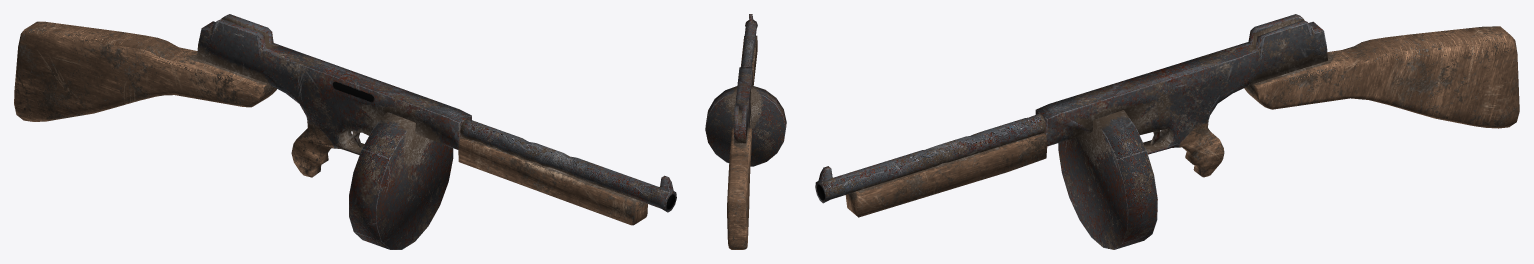
The model's file is Anim_disparar_ametralladora_objetos.0029.obj.
3 views of the same model, side by side, from view 1: azimuth 30°, elevation 25°; view 2: azimuth 150°, elevation 25°; view 3: azimuth 270°, elevation 25° (orthographic). The views are drawn at different scales.
Visible parts, largest first — view 1: Ametralladora1; view 2: Ametralladora1; view 3: Ametralladora1.
Boxes of the visible parts, x1,y1,x2,y2 form: Ametralladora1: (14, 14, 676, 249); Ametralladora1: (705, 14, 786, 249); Ametralladora1: (815, 14, 1519, 249).
Bounding box in the file's own units: 3.05 × 1.55 × 5.44.
